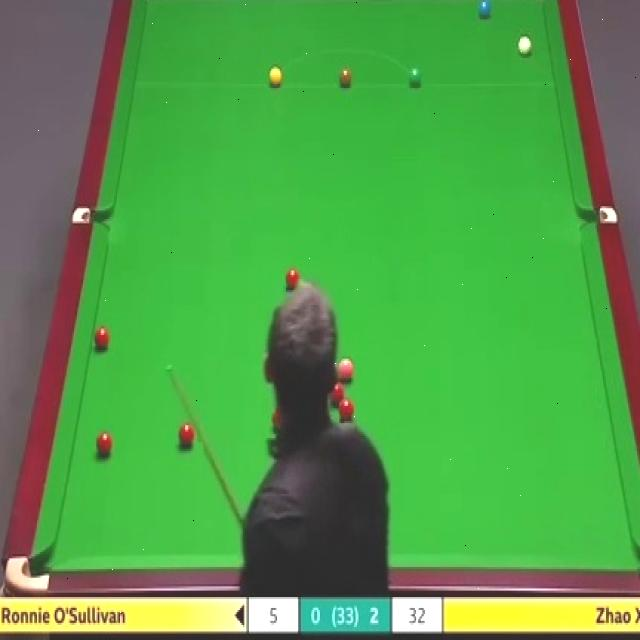blue-ball: (477, 0, 493, 17)
brown-ball: (339, 66, 354, 88)
green-ball: (407, 67, 423, 89)
pink-ball: (337, 356, 354, 382)
red-ball: (93, 324, 111, 350), (178, 422, 195, 448), (95, 431, 114, 454), (330, 378, 348, 402), (338, 396, 354, 422), (284, 268, 300, 292)
white-ball: (517, 35, 534, 58)
yellow-ball: (268, 66, 284, 88)
